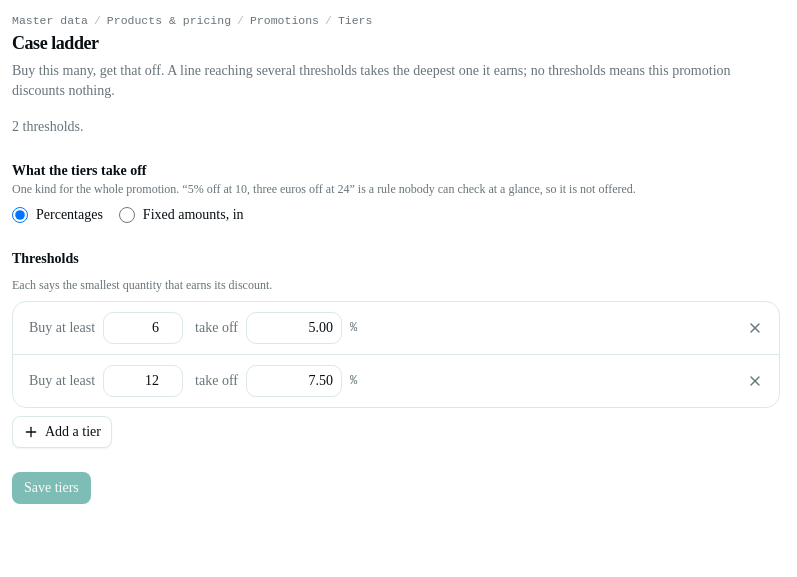
Test: <PromotionTiers> › catches a repeated threshold, which the API would refuse as a set
Expected: the button "Save tiers" is shown, [12,472,91,504]
Replace the text in the number field named "Smallest quantity, tier 2" with "6" at (143, 381), box [103,365,183,397]
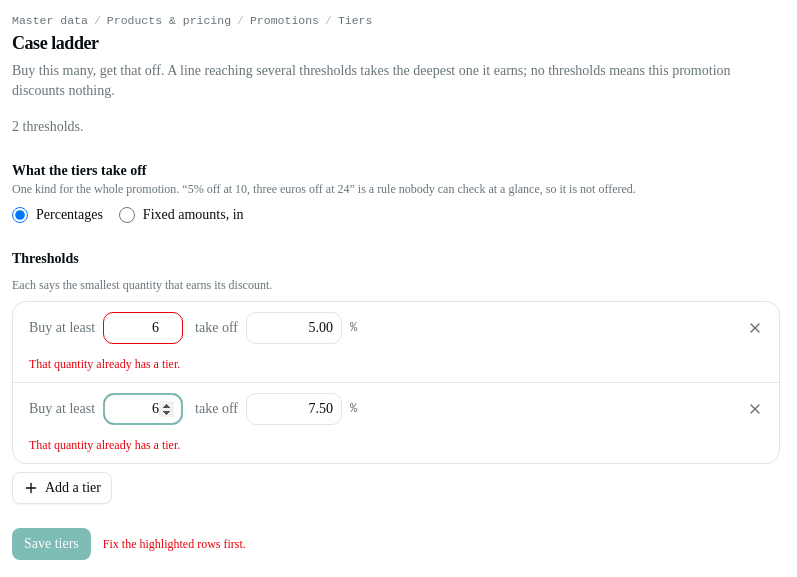
Expected: the button "Save tiers" is disabled, [12,528,91,560]
Now the 1st text "That quantity already has a tier." is shown, box [29,357,180,371]
